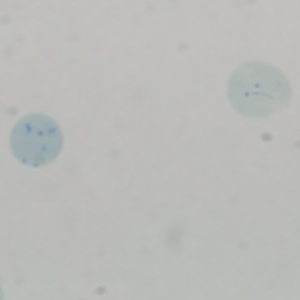aggregate reticulocyte: (7, 112, 65, 168)
erythrocyte: (225, 59, 294, 121)
